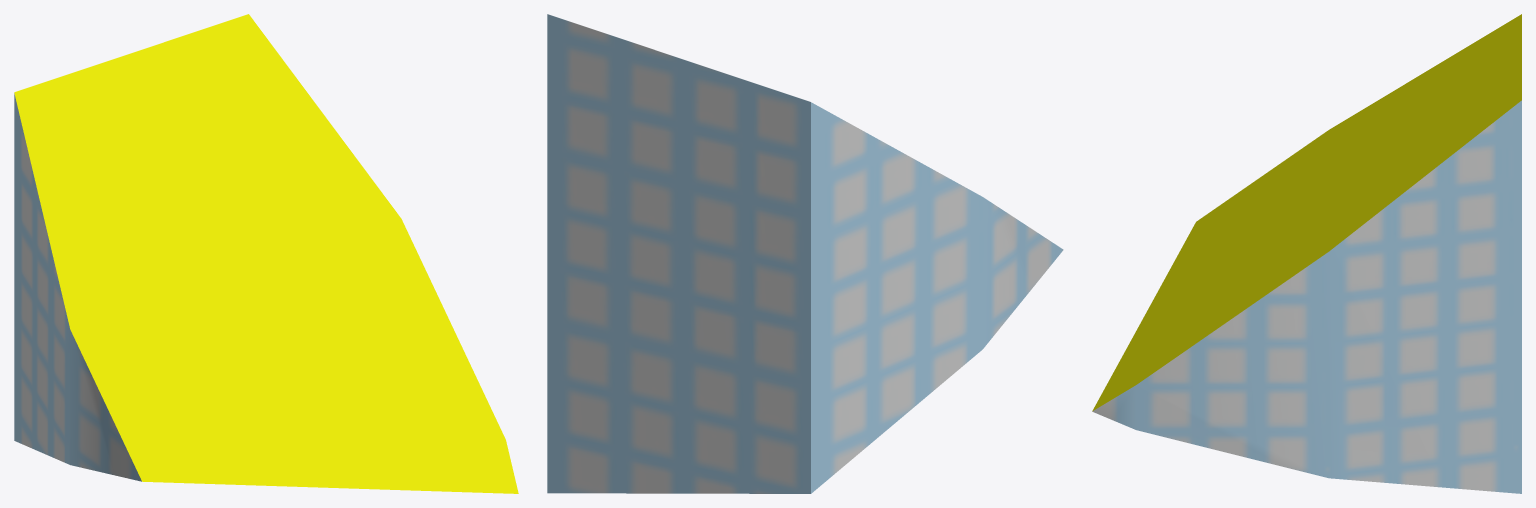
Rendered from mShard4.fbx.
3 views of the same model, side by side, from view 1: azimuth 30°, elevation 25°; view 2: azimuth 150°, elevation 25°; view 3: azimuth 270°, elevation 25° (orthographic). The views are drawn at different scales.
Visible parts, largest first — view 1: shard34; view 2: shard34; view 3: shard34.
Part boxes in pixels (<box>): shard34: <box>14,14,518,493</box>; shard34: <box>547,14,1063,493</box>; shard34: <box>1092,14,1521,493</box>.
Size of the model in its own units: 0.1357 by 0.1668 by 0.1651.
2 materials, 1 textured.
